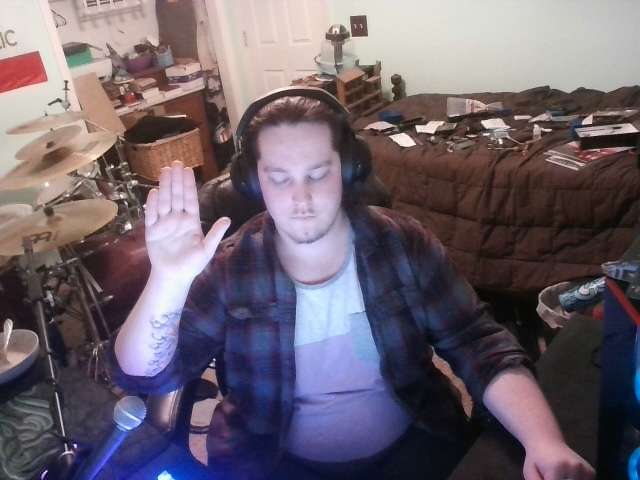hello: (123, 154, 236, 302)
